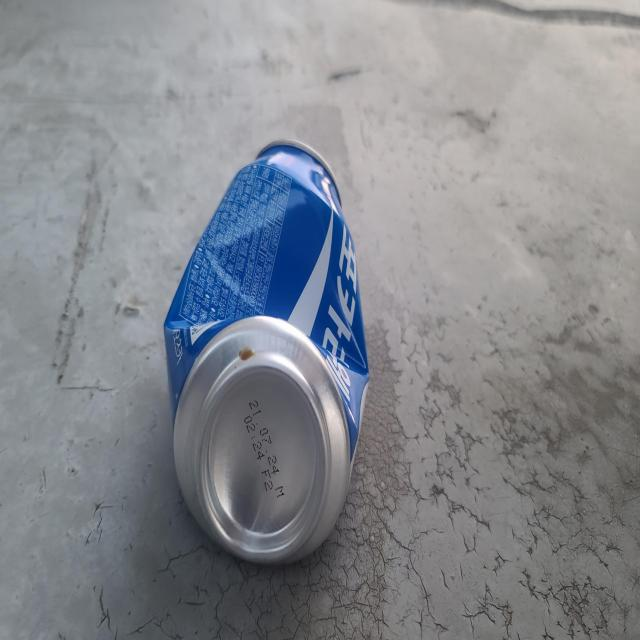can: (164, 140, 369, 563)
